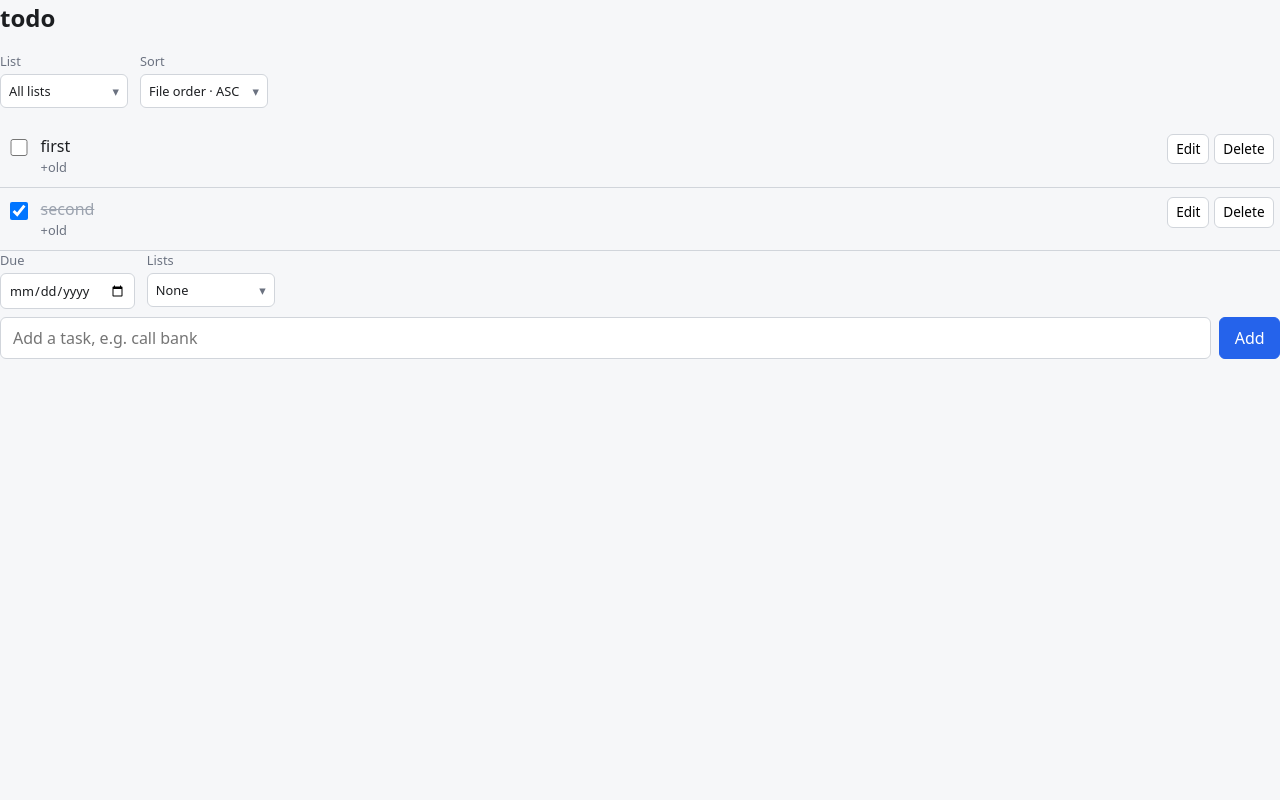
Test: list rename through real panes and transport › renames active/completed tasks, follows the filter, and preserves add drafts (server=false)
In the field named "New task": {"x": 606, "y": 338} [0,317,1211,359], type "draft +old +oldish"
Click the button with aria-label "List filter": {"x": 64, "y": 91} [0,74,128,108]
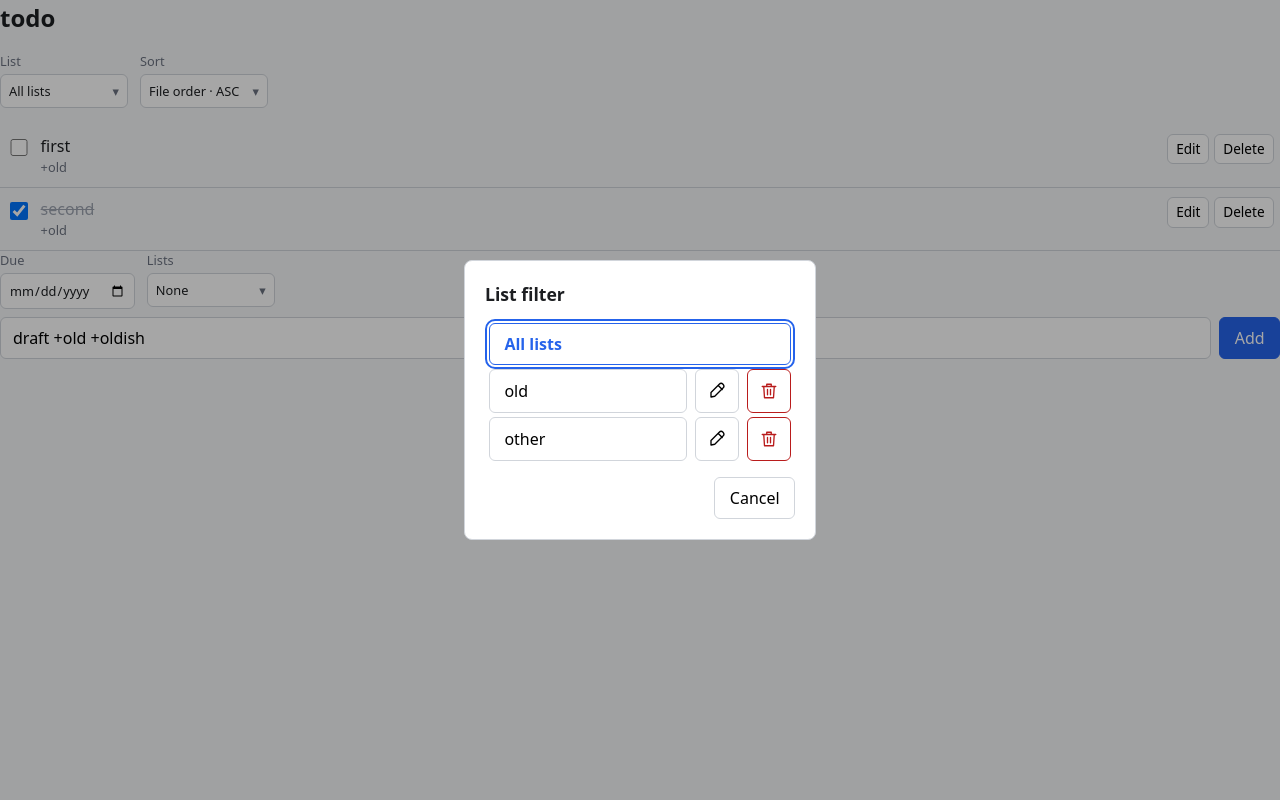
Click the button "old": {"x": 588, "y": 391} [489,369,687,413]
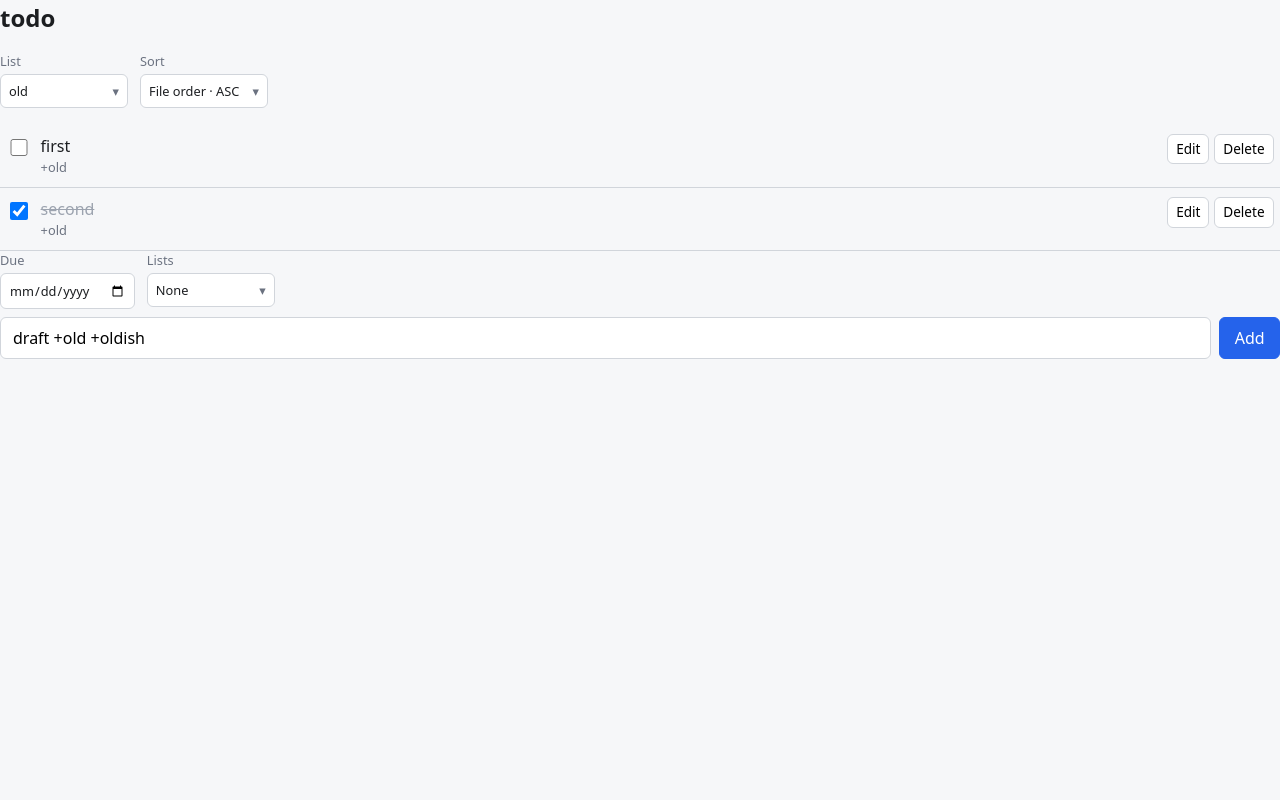
Click the button with aria-label "List filter": {"x": 64, "y": 91} [0,74,128,108]
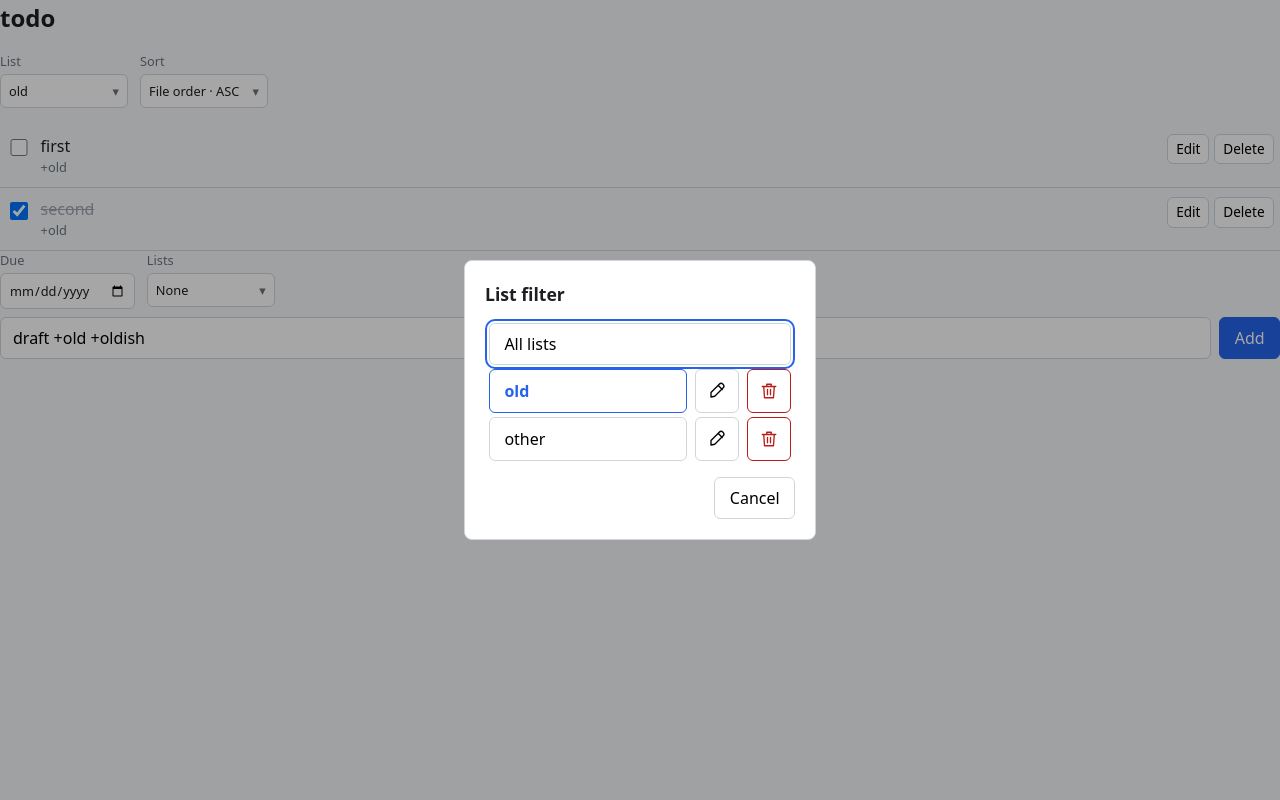
Click the button named "Rename old": {"x": 717, "y": 391} [695,369,739,413]
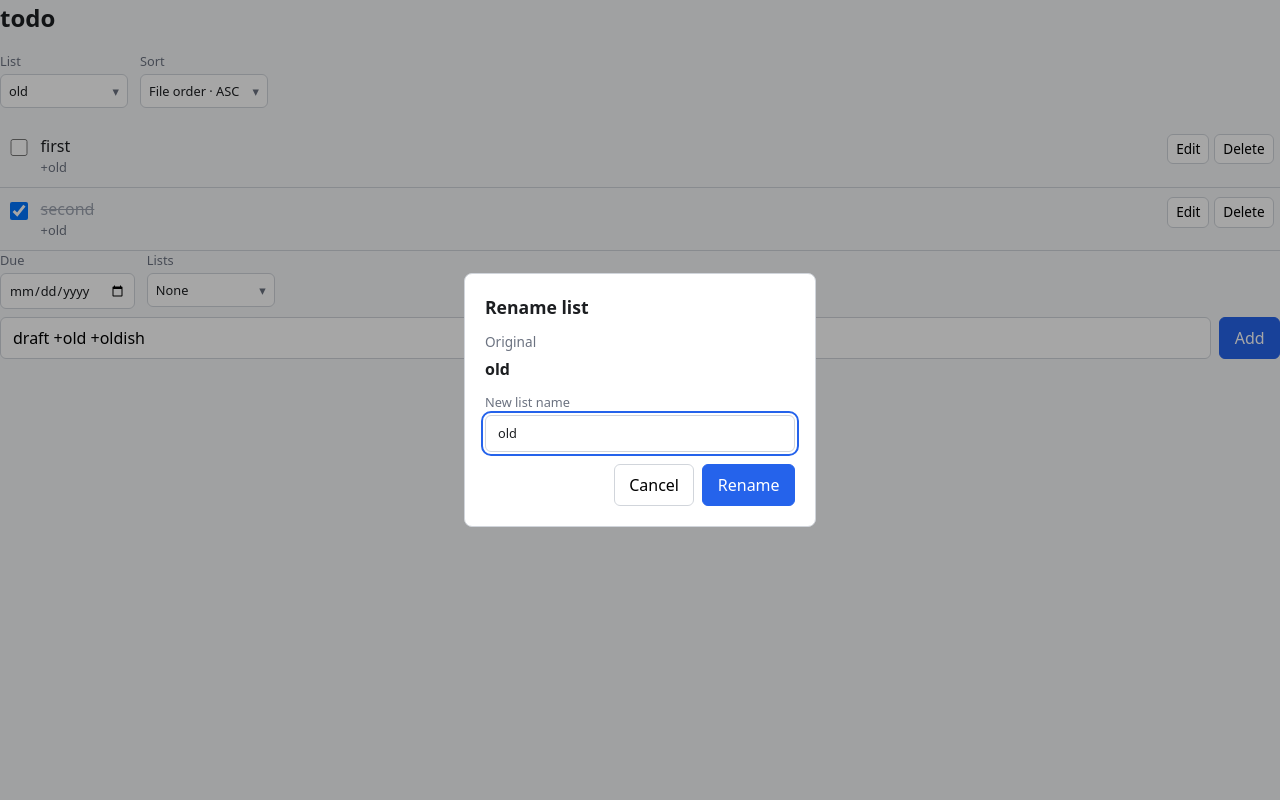
Replace the text in the field labelled "New list name" with "new": {"x": 640, "y": 434} [485,415,795,452]
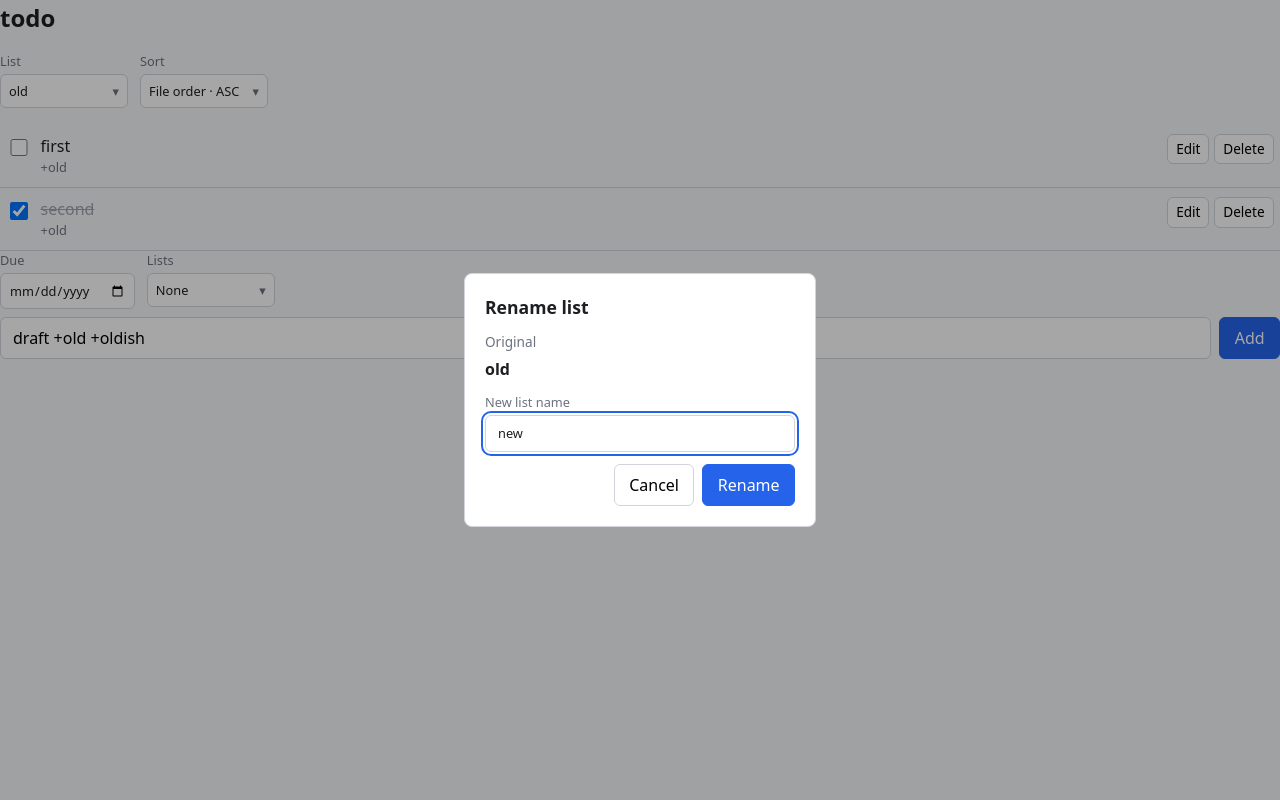
Submit the form "Rename list Original old New list name Cancel Rename", box [485,294,795,506]
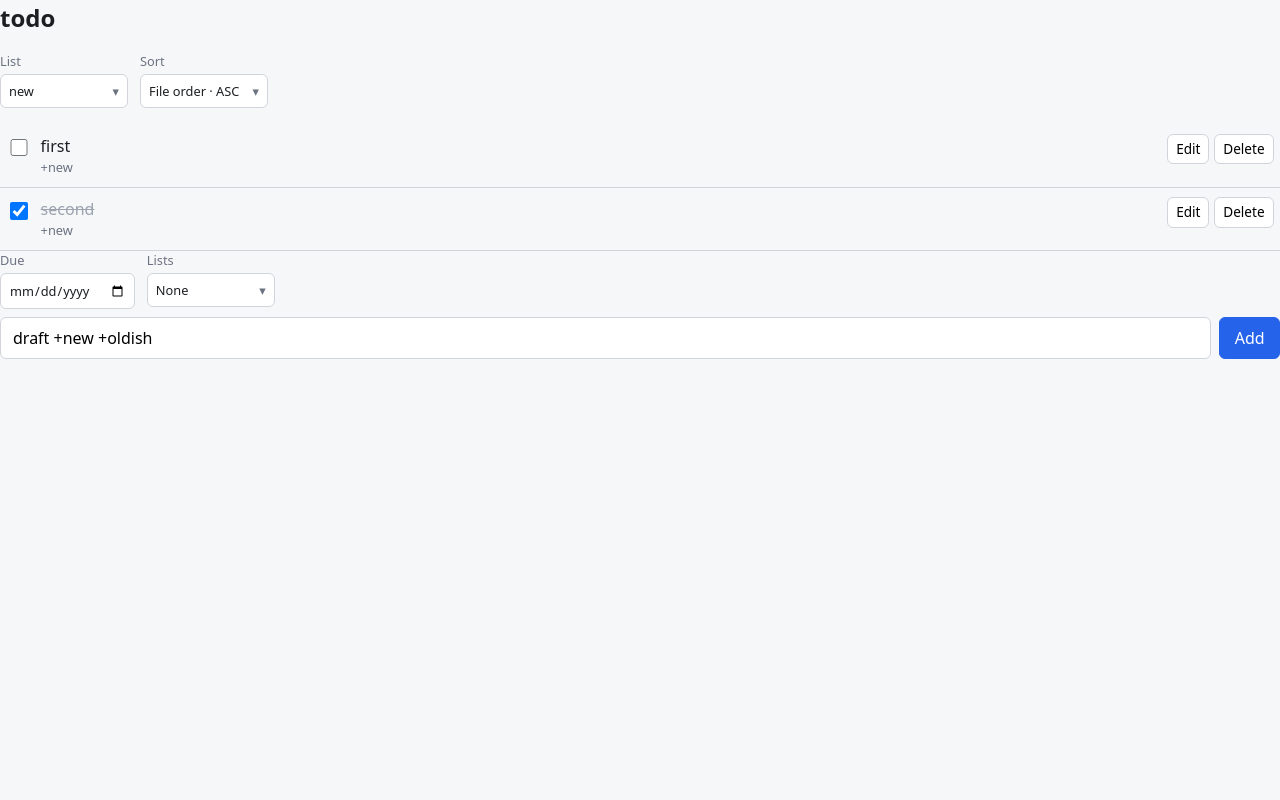
Expected: the button with aria-label "List filter" reads "new", [0,74,128,108]
Expected: the field named "New task" holds "draft +new +oldish", [0,317,1211,359]
